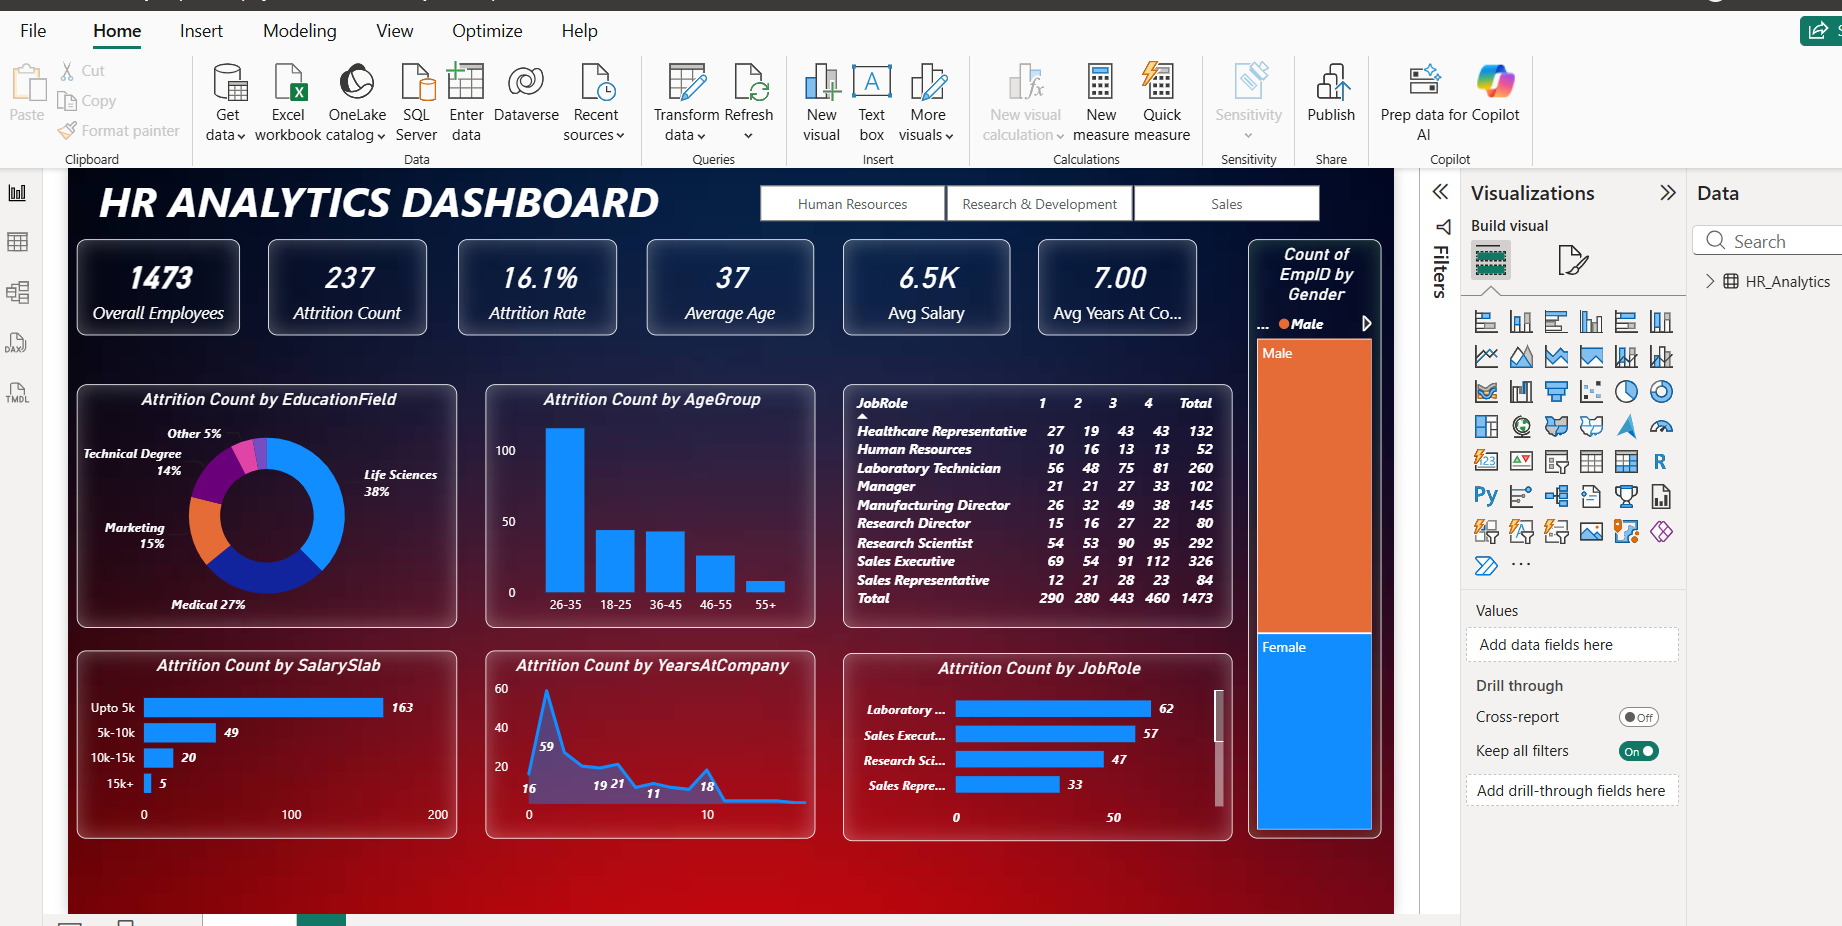

The page's visual inventory and layout, read from the dashboard file:
{"tool":"powerbi","page":{"name":"Page 1","canvas":[1280,720],"ordinal":0},"visuals":[{"type":"shape","box":[0,0,575,58.8],"z":0},{"type":"card","fields":{"Values":["HR_Analytics.Overall Employees"]},"box":[8.8,68.8,157.5,92.5],"z":1000},{"type":"card","fields":{"Values":["HR_Analytics.Attrition Count"]},"box":[193,68.8,153.2,92.9],"z":2000},{"type":"card","fields":{"Values":["HR_Analytics.Attrition Rate"]},"box":[376.2,68.8,153.8,92.5],"z":3000},{"type":"card","fields":{"Values":["HR_Analytics.Average Age"]},"box":[558.8,68.8,161.2,92.5],"z":4000},{"type":"card","fields":{"Values":["HR_Analytics.Avg Salary"]},"box":[747.5,68.8,161.2,92.5],"z":5000},{"type":"card","fields":{"Values":["HR_Analytics.Avg Years At Company"]},"box":[936.2,68.8,153.8,92.5],"z":6000},{"type":"donutChart","fields":{"Y":["HR_Analytics.Attrition Count"],"Category":["HR_Analytics.EducationField"]},"box":[8.8,208.8,367.5,235],"z":7000},{"type":"clusteredColumnChart","fields":{"Y":["HR_Analytics.Attrition Count"],"Category":["HR_Analytics.AgeGroup"]},"box":[402.5,208.8,318.8,235],"z":8000},{"type":"barChart","fields":{"Category":["HR_Analytics.SalarySlab"],"Y":["HR_Analytics.Attrition Count"]},"box":[8.8,466.2,367.5,181.2],"z":9000},{"type":"barChart","fields":{"Category":["HR_Analytics.JobRole"],"Y":["HR_Analytics.Attrition Count"]},"box":[747.5,467.5,376.2,181.2],"z":10000},{"type":"pivotTable","fields":{"Rows":["HR_Analytics.JobRole"],"Columns":["HR_Analytics.JobSatisfaction"],"Values":["HR_Analytics.Overall Employees"]},"box":[747.5,208.8,376.2,235],"z":11000},{"type":"stackedAreaChart","fields":{"Category":["HR_Analytics.YearsAtCompany"],"Y":["HR_Analytics.Attrition Count"]},"box":[402.5,466.2,318.8,181.2],"z":12000},{"type":"treemap","fields":{"Group":["HR_Analytics.Gender"],"Values":["CountNonNull(HR_Analytics.EmpID)"]},"box":[1138.8,68.8,128.8,578.8],"z":13000},{"type":"slicer","fields":{"Values":["HR_Analytics.Department"]},"box":[641.2,10,590,48.8],"z":14000}]}

Visuals, with their boxes on the page's 1280x720 design canvas (x1, y1, x2, y2). These are canvas units, not pixel positions in the 1842x926 screenshot, which may show the page scaled, cropped or inside an application window:
shape: x1=0 y1=0 x2=575 y2=59
card - HR_Analytics.Overall Employees: x1=9 y1=69 x2=166 y2=161
card - HR_Analytics.Attrition Count: x1=193 y1=69 x2=346 y2=162
card - HR_Analytics.Attrition Rate: x1=376 y1=69 x2=530 y2=161
card - HR_Analytics.Average Age: x1=559 y1=69 x2=720 y2=161
card - HR_Analytics.Avg Salary: x1=748 y1=69 x2=909 y2=161
card - HR_Analytics.Avg Years At Company: x1=936 y1=69 x2=1090 y2=161
donutChart - HR_Analytics.Attrition Count x HR_Analytics.EducationField: x1=9 y1=209 x2=376 y2=444
clusteredColumnChart - HR_Analytics.Attrition Count x HR_Analytics.AgeGroup: x1=402 y1=209 x2=721 y2=444
barChart - HR_Analytics.SalarySlab x HR_Analytics.Attrition Count: x1=9 y1=466 x2=376 y2=647
barChart - HR_Analytics.JobRole x HR_Analytics.Attrition Count: x1=748 y1=468 x2=1124 y2=649
pivotTable - HR_Analytics.JobRole x HR_Analytics.JobSatisfaction: x1=748 y1=209 x2=1124 y2=444
stackedAreaChart - HR_Analytics.YearsAtCompany x HR_Analytics.Attrition Count: x1=402 y1=466 x2=721 y2=647
treemap - HR_Analytics.Gender x CountNonNull(HR_Analytics.EmpID): x1=1139 y1=69 x2=1268 y2=648
slicer - HR_Analytics.Department: x1=641 y1=10 x2=1231 y2=59
